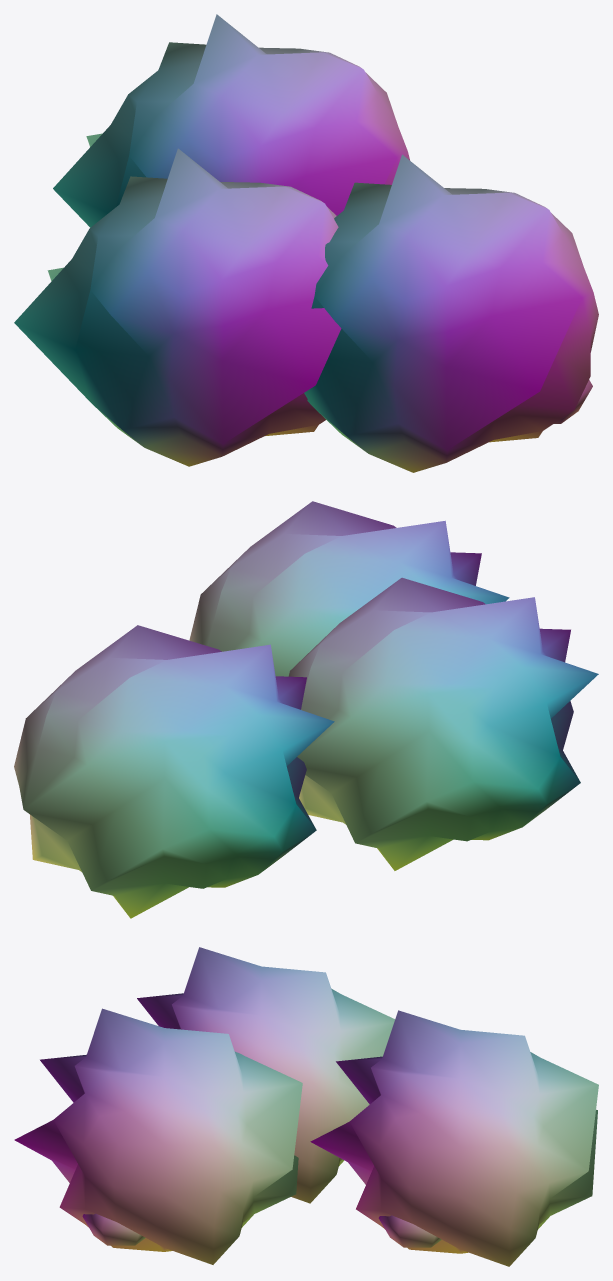
The model's file is env_deco_popcorn.glb.
The picture shows the model from 3 angles, top to bottom: view 1: azimuth 30°, elevation 25°; view 2: azimuth 150°, elevation 25°; view 3: azimuth 270°, elevation 25°; orthographic projection. The views are drawn at different scales.
Parts seen in each view (by area): view 1: env_deco_popcorn_mesh; view 2: env_deco_popcorn_mesh; view 3: env_deco_popcorn_mesh.
Part boxes in pixels (x1,y1,x2,y2): env_deco_popcorn_mesh: (14, 14, 598, 472); env_deco_popcorn_mesh: (14, 501, 598, 918); env_deco_popcorn_mesh: (14, 947, 598, 1266).
Bounding box in the file's own units: 0.1969 × 0.1072 × 0.2709.
